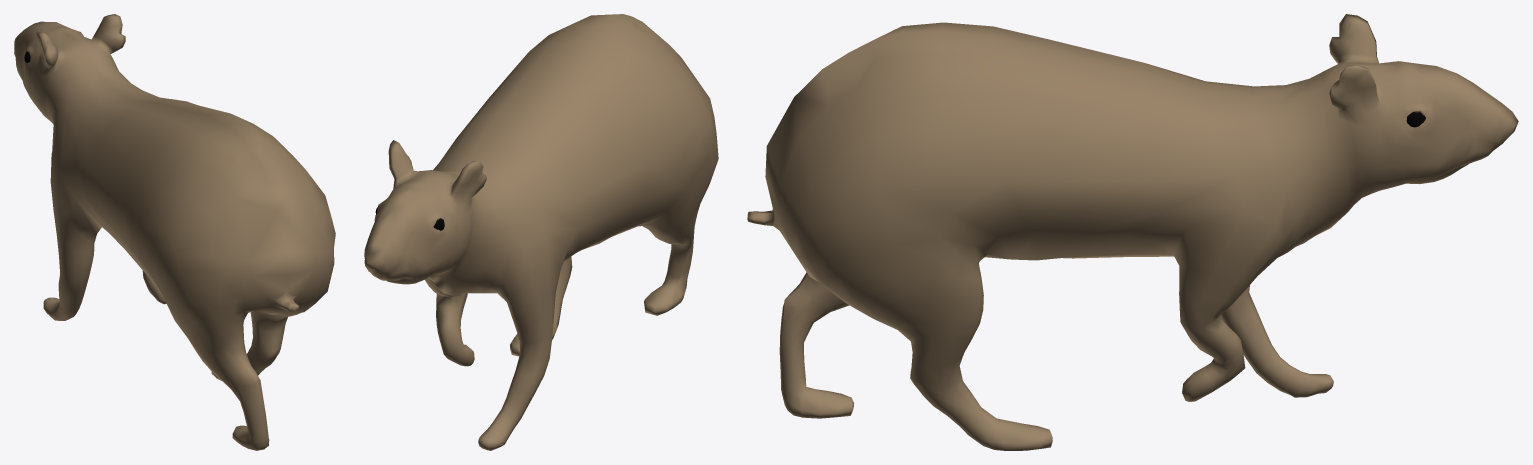
The model's file is AGOUTI_trott.fbx.
3 renders of one model, left to right at view 1: azimuth 30°, elevation 25°; view 2: azimuth 150°, elevation 25°; view 3: azimuth 270°, elevation 25°, orthographic. The views are drawn at different scales.
Visible parts, largest first — view 1: agouti_body.001; view 2: agouti_body.001; view 3: agouti_body.001.
Boxes of the visible parts, x1,y1,x2,y2 form: agouti_body.001: (14,14,335,450); agouti_body.001: (364,14,718,450); agouti_body.001: (747,14,1518,450).
Size of the model in its own units: 500 by 829 by 1469.
